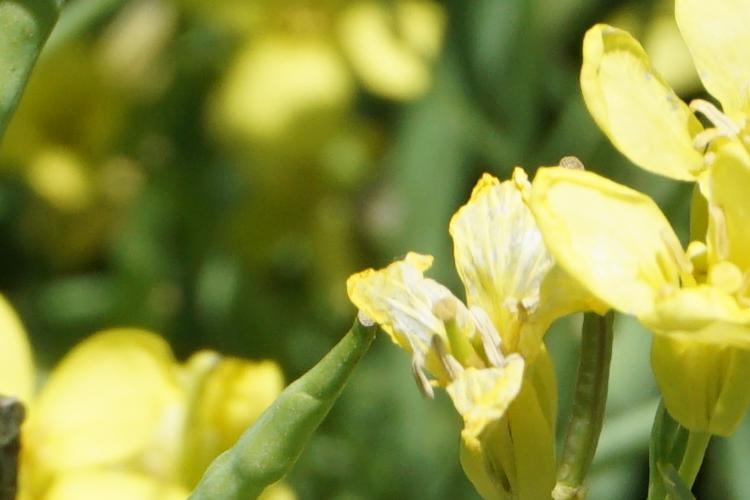yellow: (551, 47, 750, 436), (400, 180, 590, 478)
